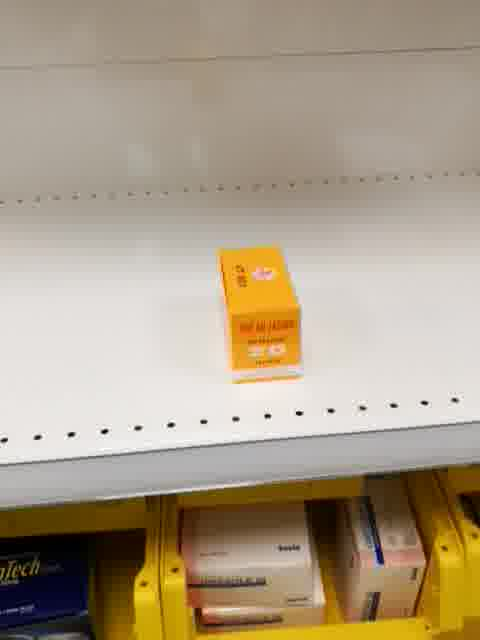jasminetea: (212, 246, 303, 385)
